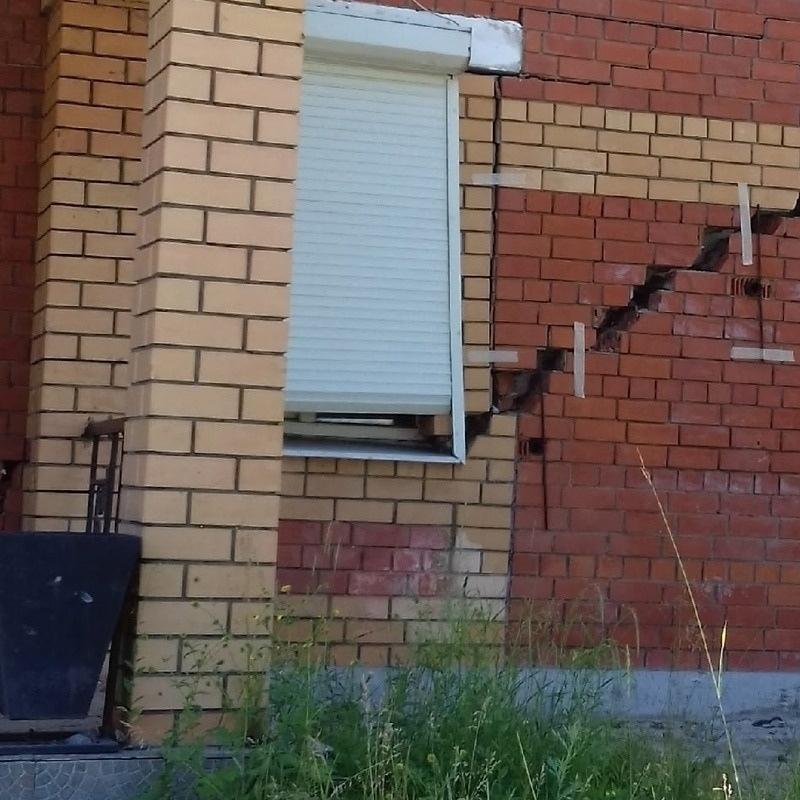pothole: (492, 43, 657, 174), (585, 227, 739, 352), (519, 7, 799, 40), (492, 348, 563, 416), (752, 196, 799, 234), (487, 186, 498, 314), (466, 411, 493, 451), (492, 306, 497, 350), (530, 438, 542, 454)
